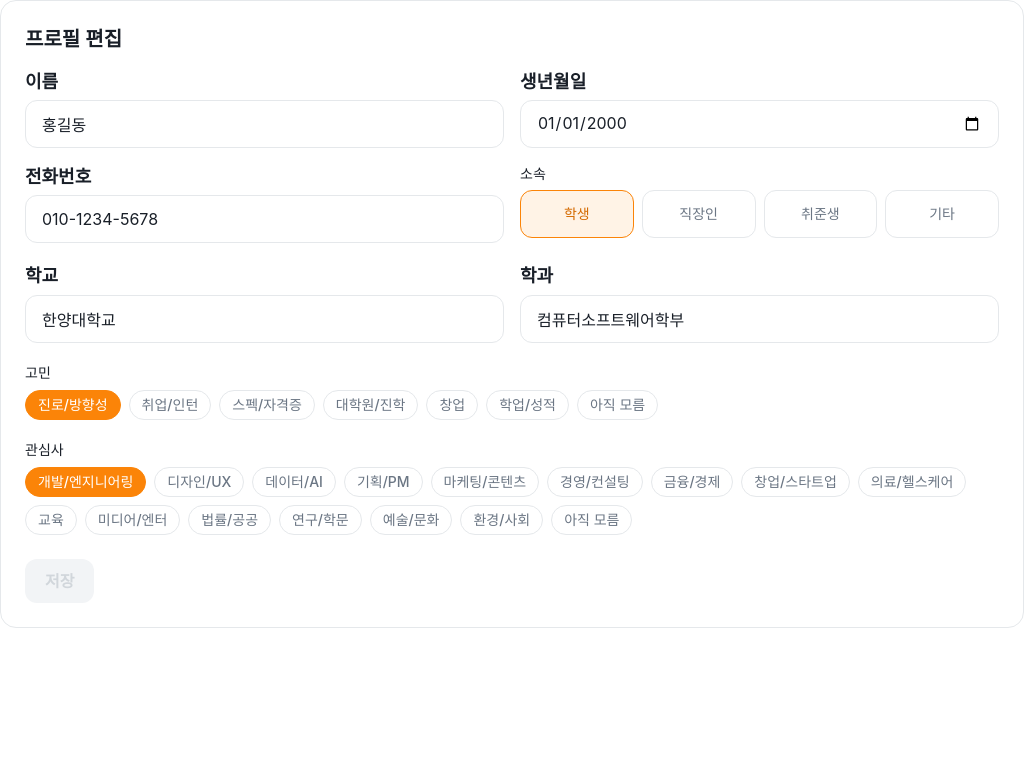
Scenario: ProfileEditForm — 저장 성공은 동기화 실패로 뒤집히지 않는다(FRT-294) › refetch 가 실패해도 저장 버튼은 비활성 상태로 남는다
This screenshot has width=1024, height=768.
Click the button "취업/인턴" at (170, 405), box top-left (129, 390), bottom-right (211, 420)
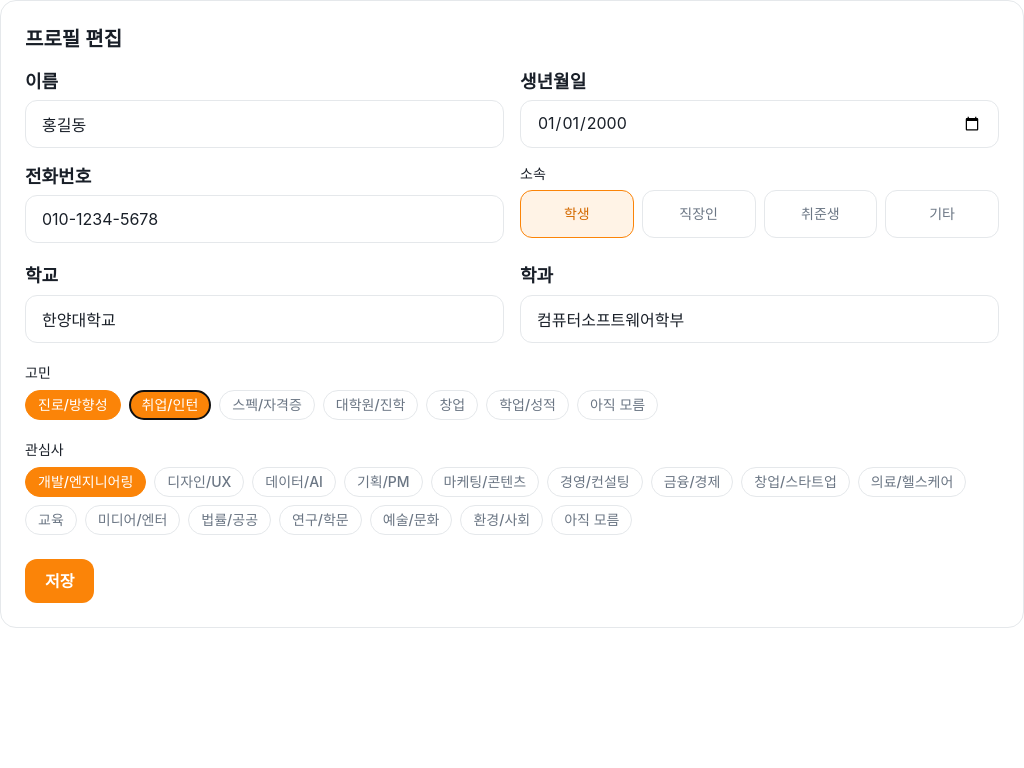
Now the button "저장" is enabled
Click the button "저장" at (60, 580), box top-left (25, 558), bottom-right (94, 602)
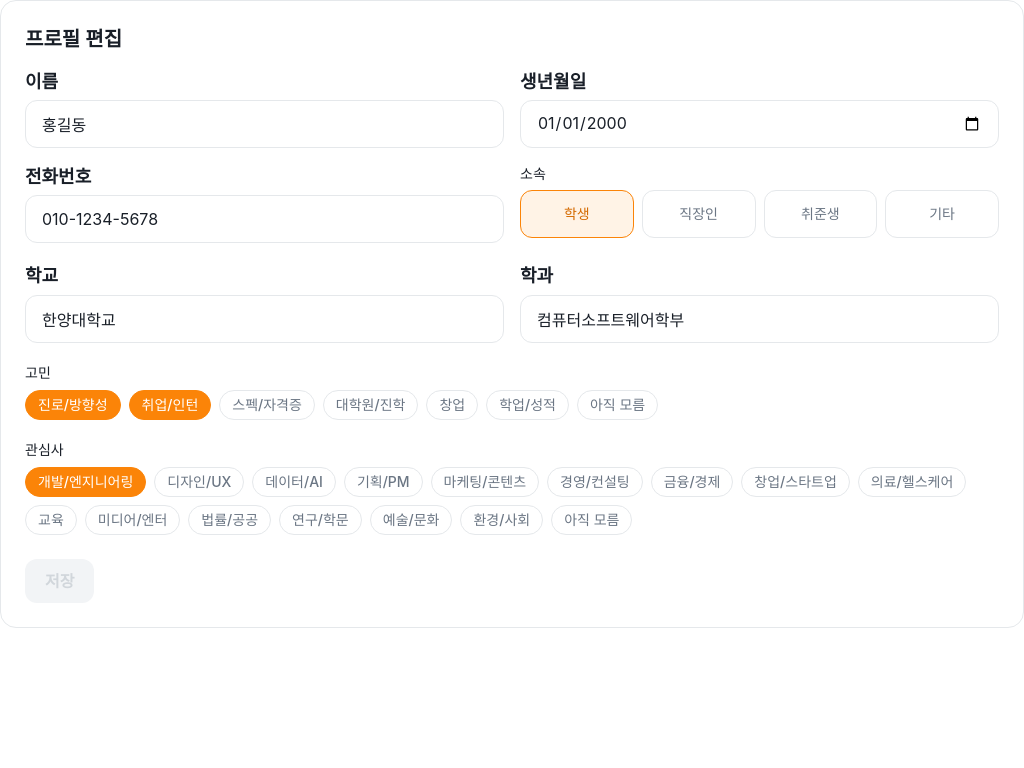
Now the button "저장" is disabled, box top-left (25, 558), bottom-right (94, 602)
